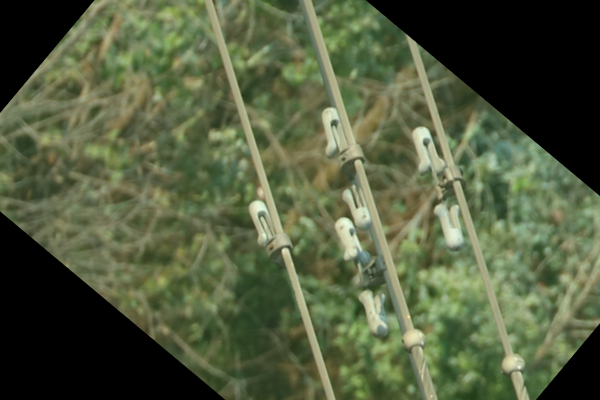damper: (329, 213, 393, 342), (410, 115, 466, 254)
damper_defect: (318, 100, 373, 231), (243, 196, 292, 269)
